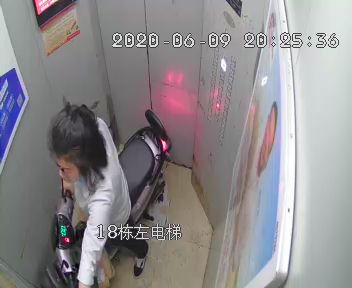Electric-bicycle: (42, 108, 174, 288)
